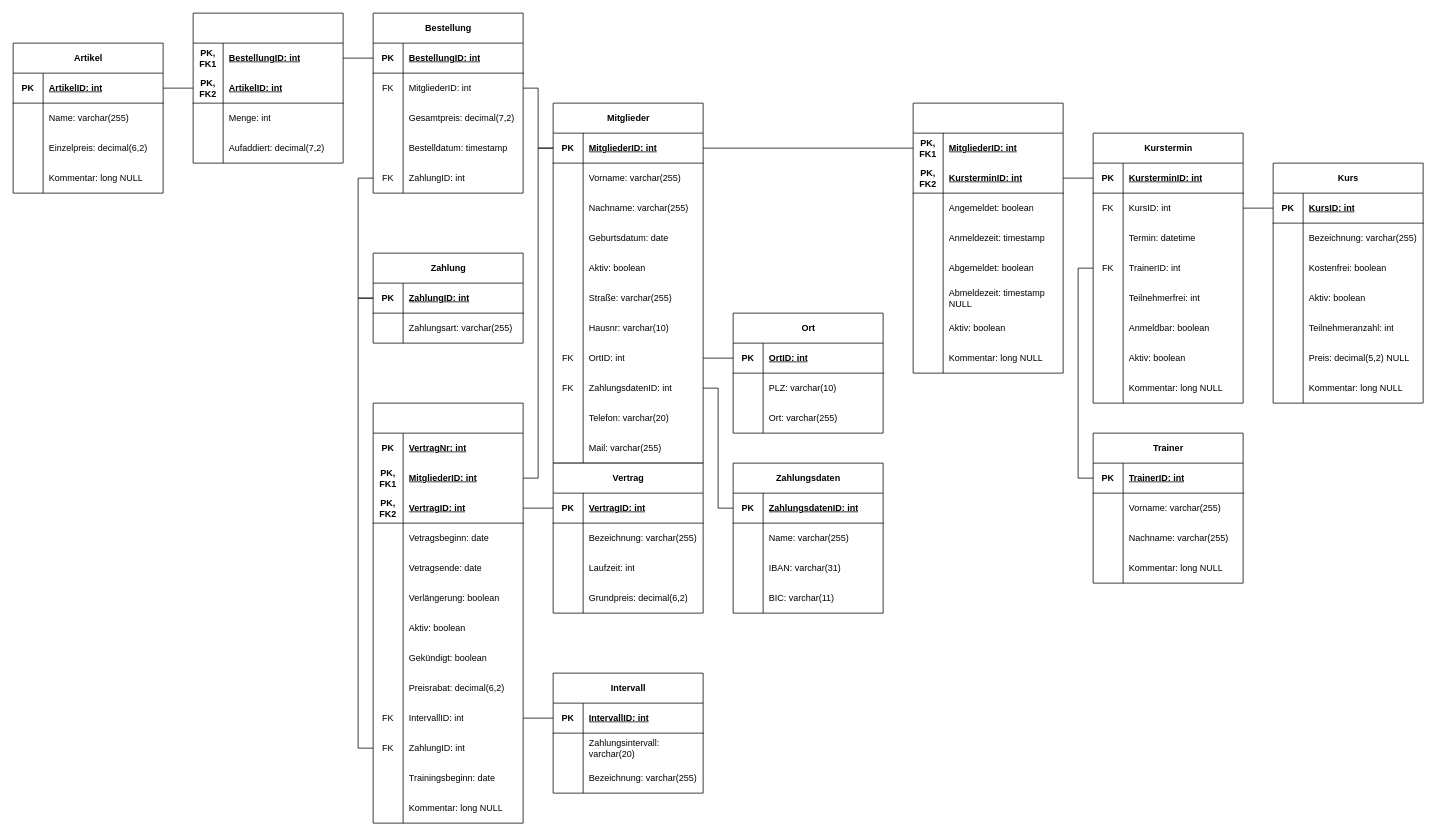
Some shapes in this 1436 by 836 pixel diagram are drawn without their labels. Here are the shapes that lost their labels. From the top down, the box of each, then its label:
(192, 12, 343, 163): ArtikelBestellung
(912, 102, 1063, 373): Kursteilnahme
(372, 402, 523, 823): MitgliederVertrag
